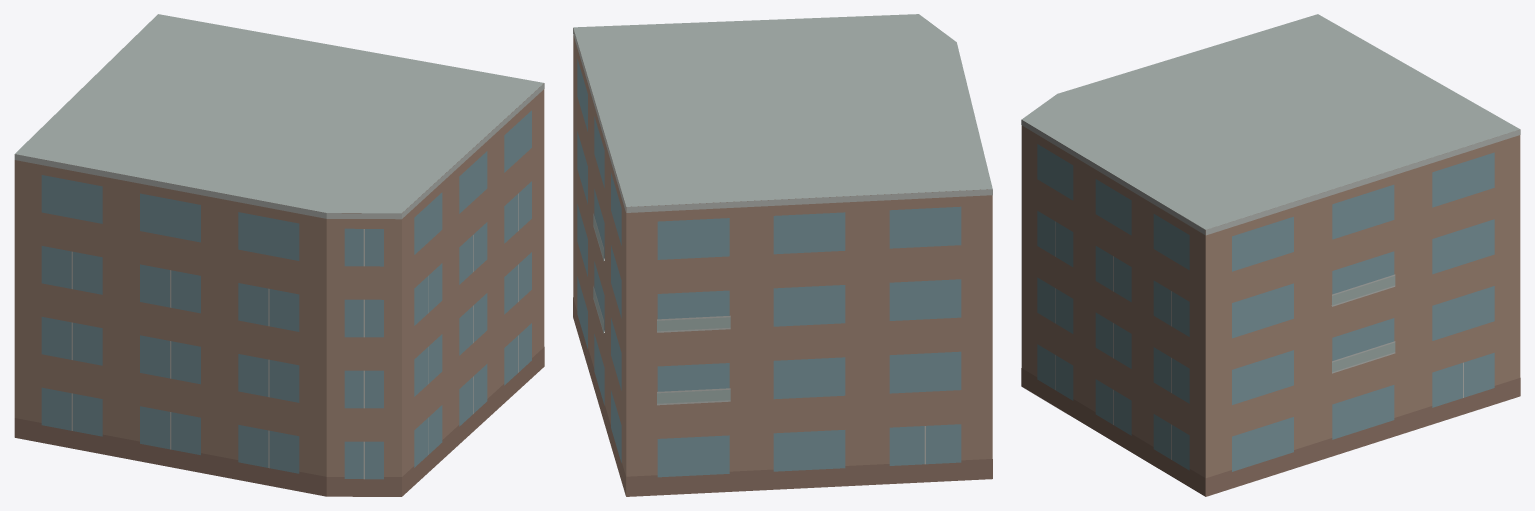
The model's file is survey-upis-32993321.glb.
3 views of the same model, side by side, from view 1: azimuth 30°, elevation 25°; view 2: azimuth 150°, elevation 25°; view 3: azimuth 270°, elevation 25° (orthographic). The views are drawn at different scales.
Parts seen in each view (by area): view 1: survey-upis-32993321.tmp; view 2: survey-upis-32993321.tmp; view 3: survey-upis-32993321.tmp.
Part boxes in pixels (<box>): survey-upis-32993321.tmp: <box>14,14,544,496</box>; survey-upis-32993321.tmp: <box>573,14,992,496</box>; survey-upis-32993321.tmp: <box>1021,14,1520,496</box>.
Bounding box in the file's own units: 20.31 × 11.7 × 19.83.
